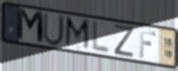F: (139, 28, 157, 60)
L: (90, 19, 111, 56)
M: (17, 7, 46, 47), (63, 15, 91, 53)
U: (42, 12, 66, 48)
Z: (113, 23, 136, 59)
